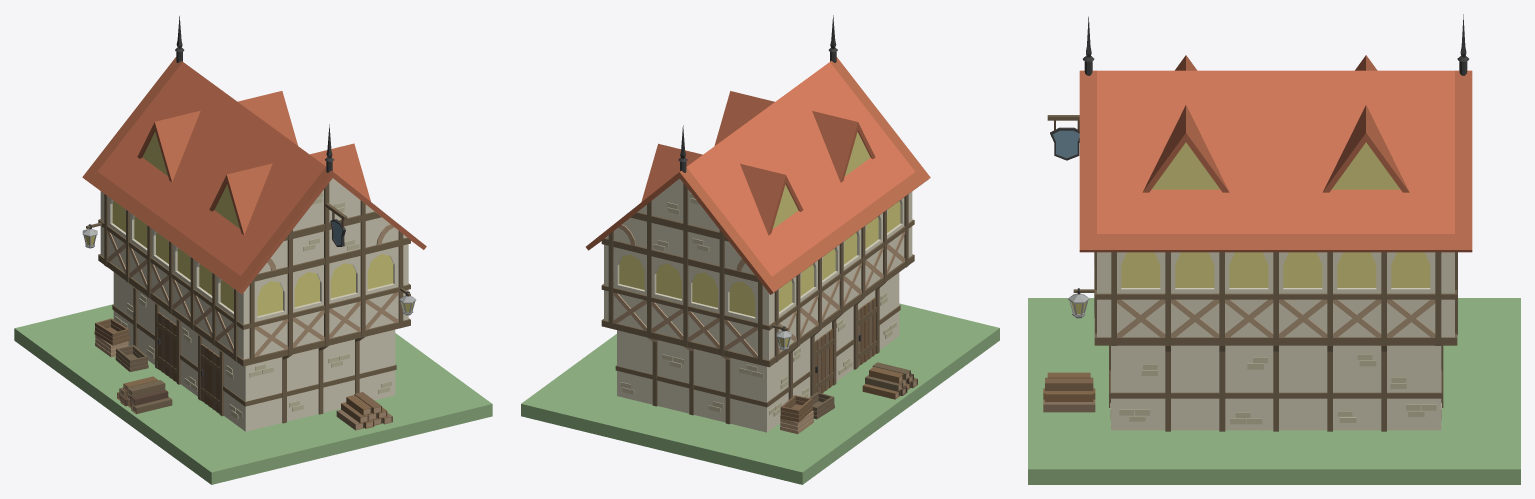
File: House_3.fbx
3 views of the same model, side by side, from view 1: azimuth 30°, elevation 25°; view 2: azimuth 150°, elevation 25°; view 3: azimuth 270°, elevation 25° (orthographic). The views are drawn at different scales.
Parts seen in each view (by area): view 1: House_3; view 2: House_3; view 3: House_3.
Part boxes in pixels (x1,y1,x2,y2): House_3: [14, 16, 492, 484]; House_3: [521, 15, 999, 484]; House_3: [1028, 14, 1520, 484].
Bounding box in the file's own units: 171 × 180 × 208.
Materials: 1 (1 with a texture image).
